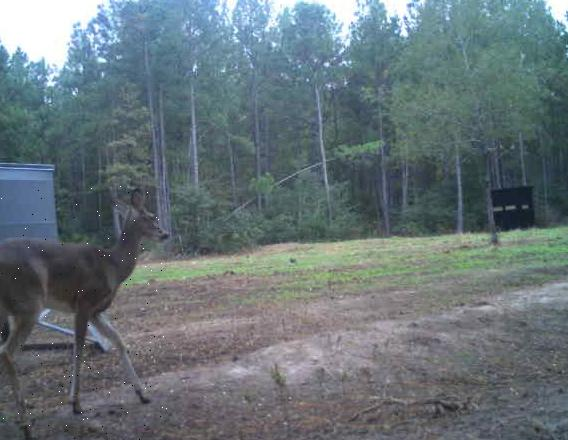Deer: (0, 185, 168, 440)
